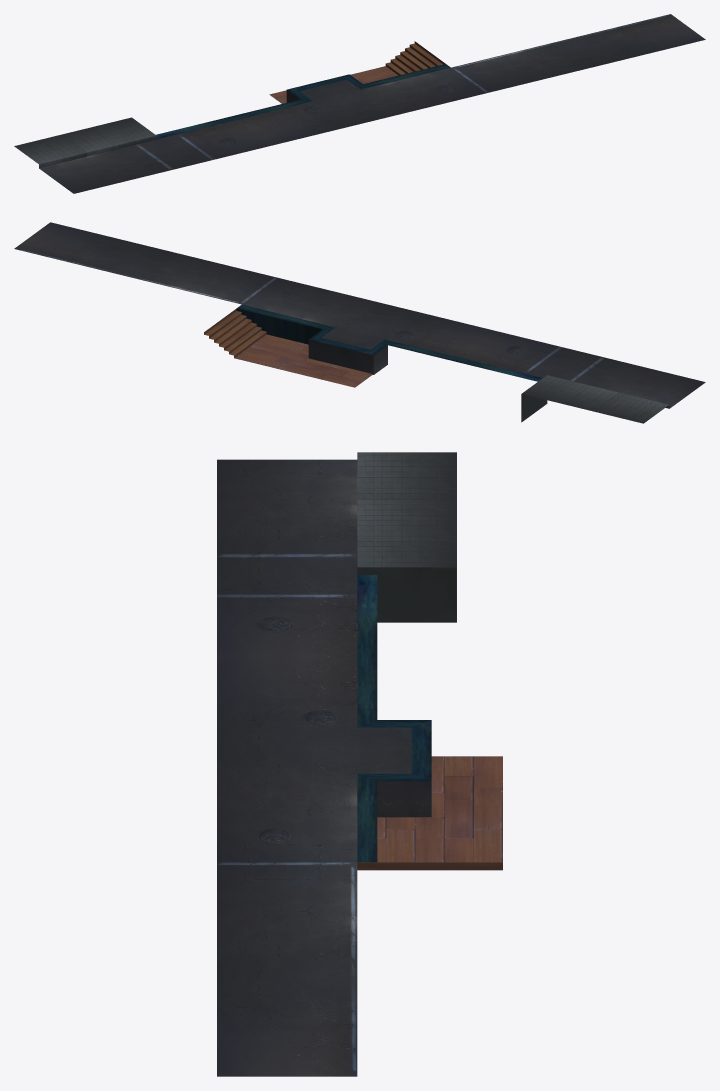
The model's file is HuBian_NightFloor_fbx.FBX.
3 renders of one model, top to bottom at view 1: azimuth 30°, elevation 25°; view 2: azimuth 150°, elevation 25°; view 3: azimuth 270°, elevation 25°, orthographic. The views are drawn at different scales.
Parts seen in each view (by area): view 1: Plane002; view 2: Plane002; view 3: Plane002.
Boxes of the visible parts, left/top/right/bottom form: Plane002: left=14, top=14, right=705, bottom=193; Plane002: left=14, top=222, right=705, bottom=423; Plane002: left=217, top=452, right=502, bottom=1076.
Size of the model in its own units: 48.05 by 2.01 by 9.42.
